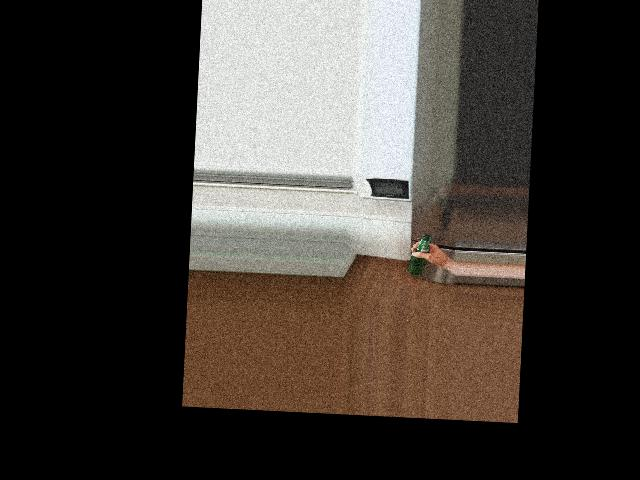beer: (408, 233, 432, 276)
